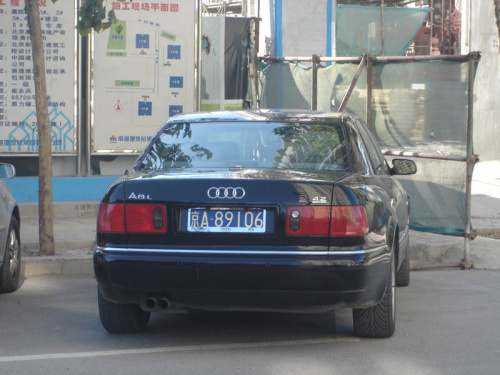plate_number: (182, 205, 269, 234)
